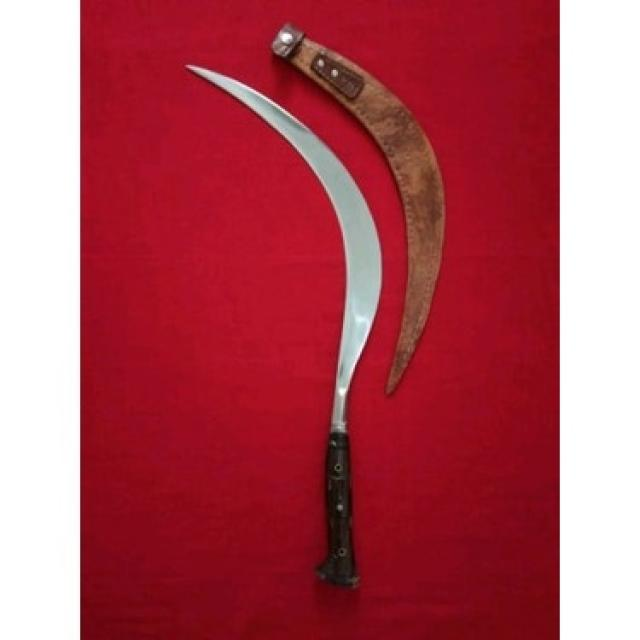Celurit: (186, 61, 386, 594)
